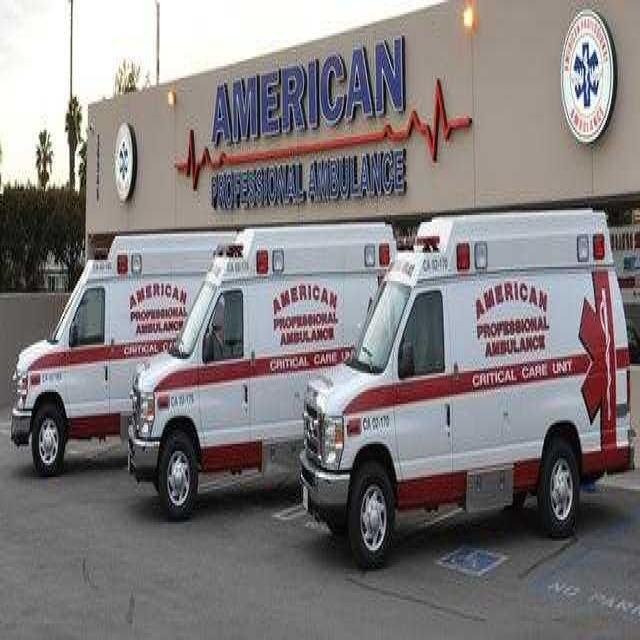emergency-vehicle: (299, 194, 637, 574), (127, 224, 296, 522), (6, 227, 122, 477)
